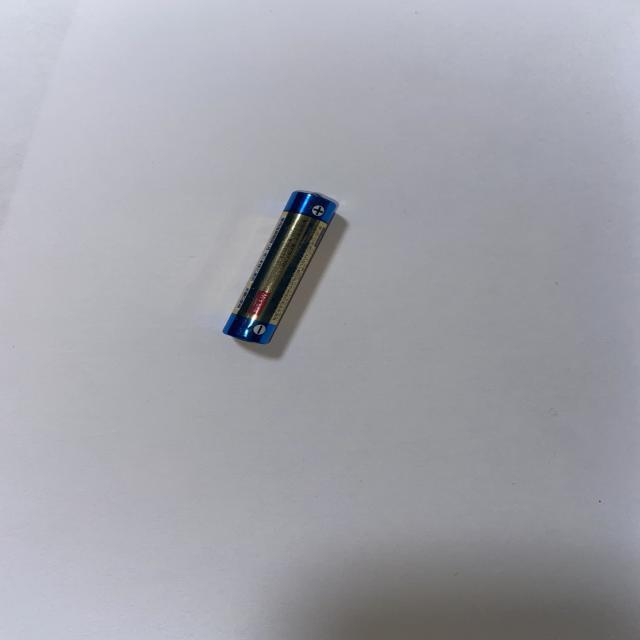Hazard: (220, 186, 342, 347)
